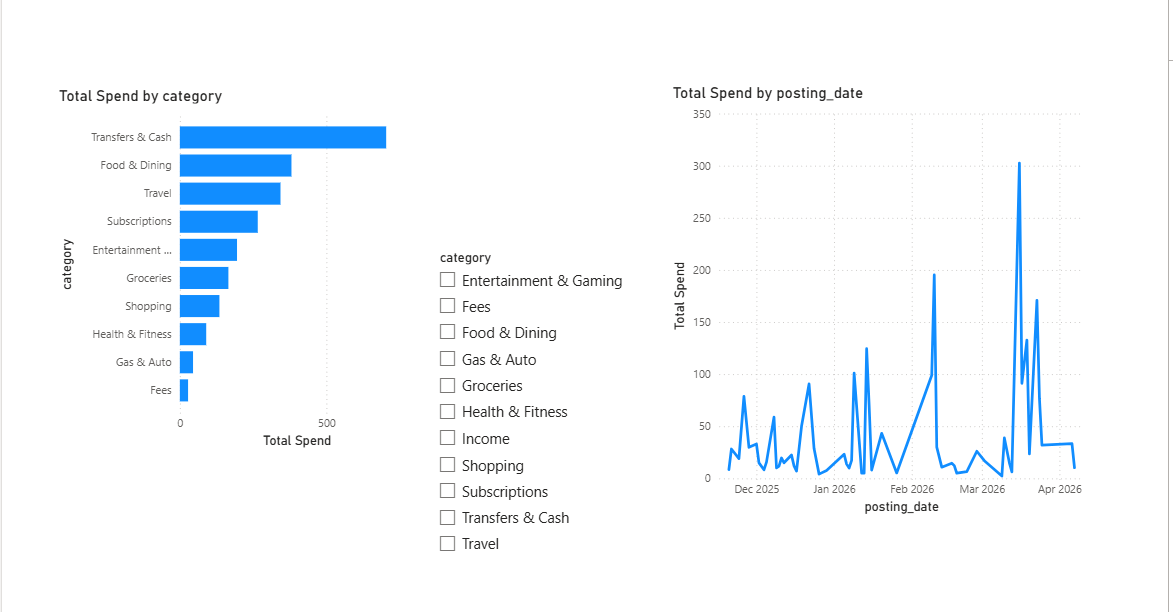

The page's visual inventory and layout, read from the dashboard file:
{"tool":"powerbi","page":{"name":"Page 1","canvas":[1280,720],"ordinal":0},"visuals":[{"type":"clusteredBarChart","fields":{"Category":["cleaned_chase_checking.category"],"Y":["cleaned_chase_checking.Total Spend"]},"box":[57.6,142.7,410.3,402.1],"z":0},{"type":"lineChart","fields":{"Y":["cleaned_chase_checking.Total Spend"],"Category":["cleaned_chase_checking.posting_date"]},"box":[731.4,140,476.2,477.5],"z":1},{"type":"slicer","fields":{"Values":["cleaned_chase_checking.category"]},"box":[467.9,317,230.5,351.3],"z":2}]}

Visuals, with their boxes on the page's 1280x720 design canvas (x1, y1, x2, y2). These are canvas units, not pixel positions in the 1173x612 screenshot, which may show the page scaled, cropped or inside an application window:
clusteredBarChart - cleaned_chase_checking.category x cleaned_chase_checking.Total Spend: bbox=[58, 143, 468, 545]
lineChart - cleaned_chase_checking.Total Spend x cleaned_chase_checking.posting_date: bbox=[731, 140, 1208, 618]
slicer - cleaned_chase_checking.category: bbox=[468, 317, 698, 668]
